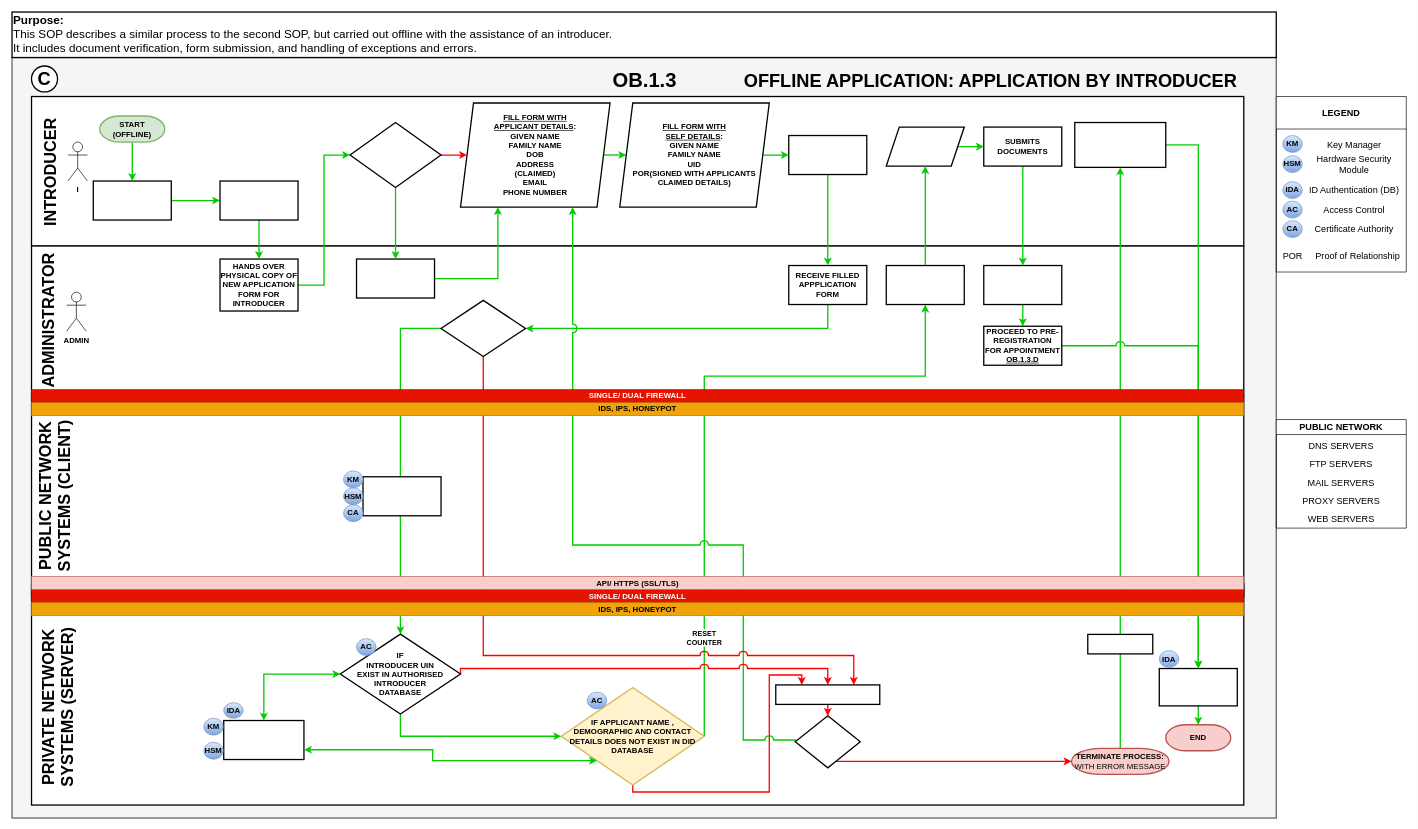
This 1418x829 diagram has some shape labels left out. The centre of each missing label's shape, as x and y in pixels:
"ATTACHES APPLICATION FORM WITH PHOTOCOPIES" goes at pixel 1022 285.
"CONFIRMS DETAILS & SIGNS THE DOCUMENT/THUMB IMPRESSION" goes at pixel 827 155.
"DID USER DATABASE" goes at pixel 263 740.
"EXCEPTION AND ERROR HANDLING (COUNTER)" goes at pixel 827 694.
"IF INTRODUCER UIN PROVIDED" goes at pixel 483 328.
"IF REQUESTED FOR ASSISTANCE" goes at pixel 395 155.
"IF RETRY COUNT <=3" goes at pixel 827 741.
"LOGS THE PROCESS AND STATUS" goes at pixel 1198 687.
"MASK & ENCRYPT APPLICATION DETAILS" goes at pixel 401 496.
"NOTIFICATION GENERATOR" goes at pixel 1120 643.
"PROVIDES ASSISTANCE TO FILL THE FORM" goes at pixel 395 278.
"PROVIDES PHOTOCOPIES OF POI, POA & POR" goes at pixel 925 146.
"RECEIVE APPLICATION REJECTED ACKNOWLEDGEMENT" goes at pixel 1120 145.
"REQUEST NEW APPLICATION FORM with INTRODUCER" goes at pixel 258 200.
"REQUESTS PHOTOCOPIES OF POI, POA & POR" goes at pixel 925 285.
"VISIT ENROLMENT CENTER" goes at pixel 132 200.
